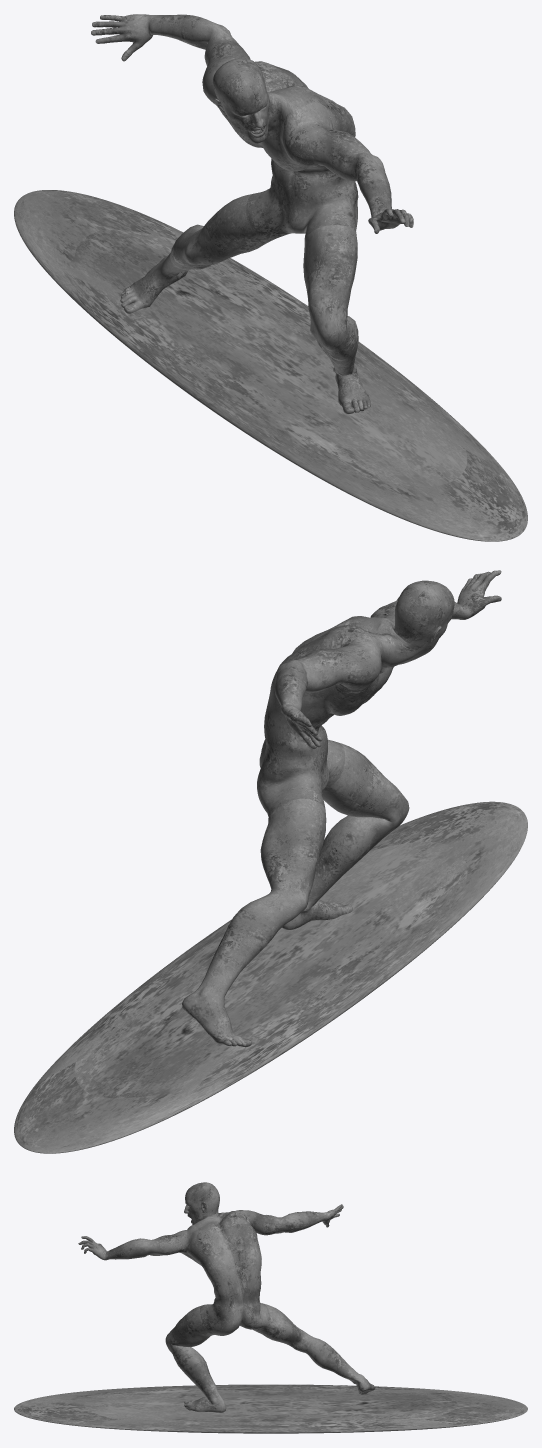
Rendered from silver_surfer.glb.
The picture shows the model from 3 angles, top to bottom: view 1: azimuth 30°, elevation 25°; view 2: azimuth 150°, elevation 25°; view 3: azimuth 270°, elevation 25°; orthographic projection. The views are drawn at different scales.
Visible parts, largest first — view 1: Body_3, Object_12, Object_15, Object_14, Object_13, Object_16, Object_17; view 2: Body_3, Object_15, Object_12, Object_14, Object_16, Object_13, Object_17; view 3: Body_3, Object_15, Object_12, Object_14, Object_13, Object_17, Object_16.
Boxes of the visible parts, x1=… form: Body_3: x1=91, y1=14, x2=413, y2=413; Object_12: x1=89, y1=263, x2=522, y2=541; Object_15: x1=14, y1=199, x2=526, y2=541; Object_14: x1=14, y1=190, x2=384, y2=426; Object_13: x1=149, y1=216, x2=527, y2=528; Object_16: x1=46, y1=271, x2=454, y2=536; Object_17: x1=206, y1=390, x2=527, y2=536; Body_3: x1=182, y1=570, x2=501, y2=1047; Object_15: x1=14, y1=805, x2=527, y2=1151; Object_12: x1=167, y1=802, x2=526, y2=1083; Object_14: x1=14, y1=939, x2=414, y2=1153; Object_16: x1=184, y1=830, x2=527, y2=1110; Object_13: x1=19, y1=802, x2=494, y2=1109; Object_17: x1=351, y1=801, x2=527, y2=983; Body_3: x1=78, y1=1182, x2=374, y2=1412; Object_15: x1=29, y1=1385, x2=519, y2=1428; Object_12: x1=14, y1=1389, x2=424, y2=1426; Object_14: x1=201, y1=1386, x2=527, y2=1433; Object_13: x1=21, y1=1396, x2=497, y2=1433; Object_17: x1=16, y1=1385, x2=240, y2=1418; Object_16: x1=73, y1=1384, x2=347, y2=1392.
Bounding box in the file's own units: 0.7901 × 1.4 × 3.16.
2 materials, 1 textured.
